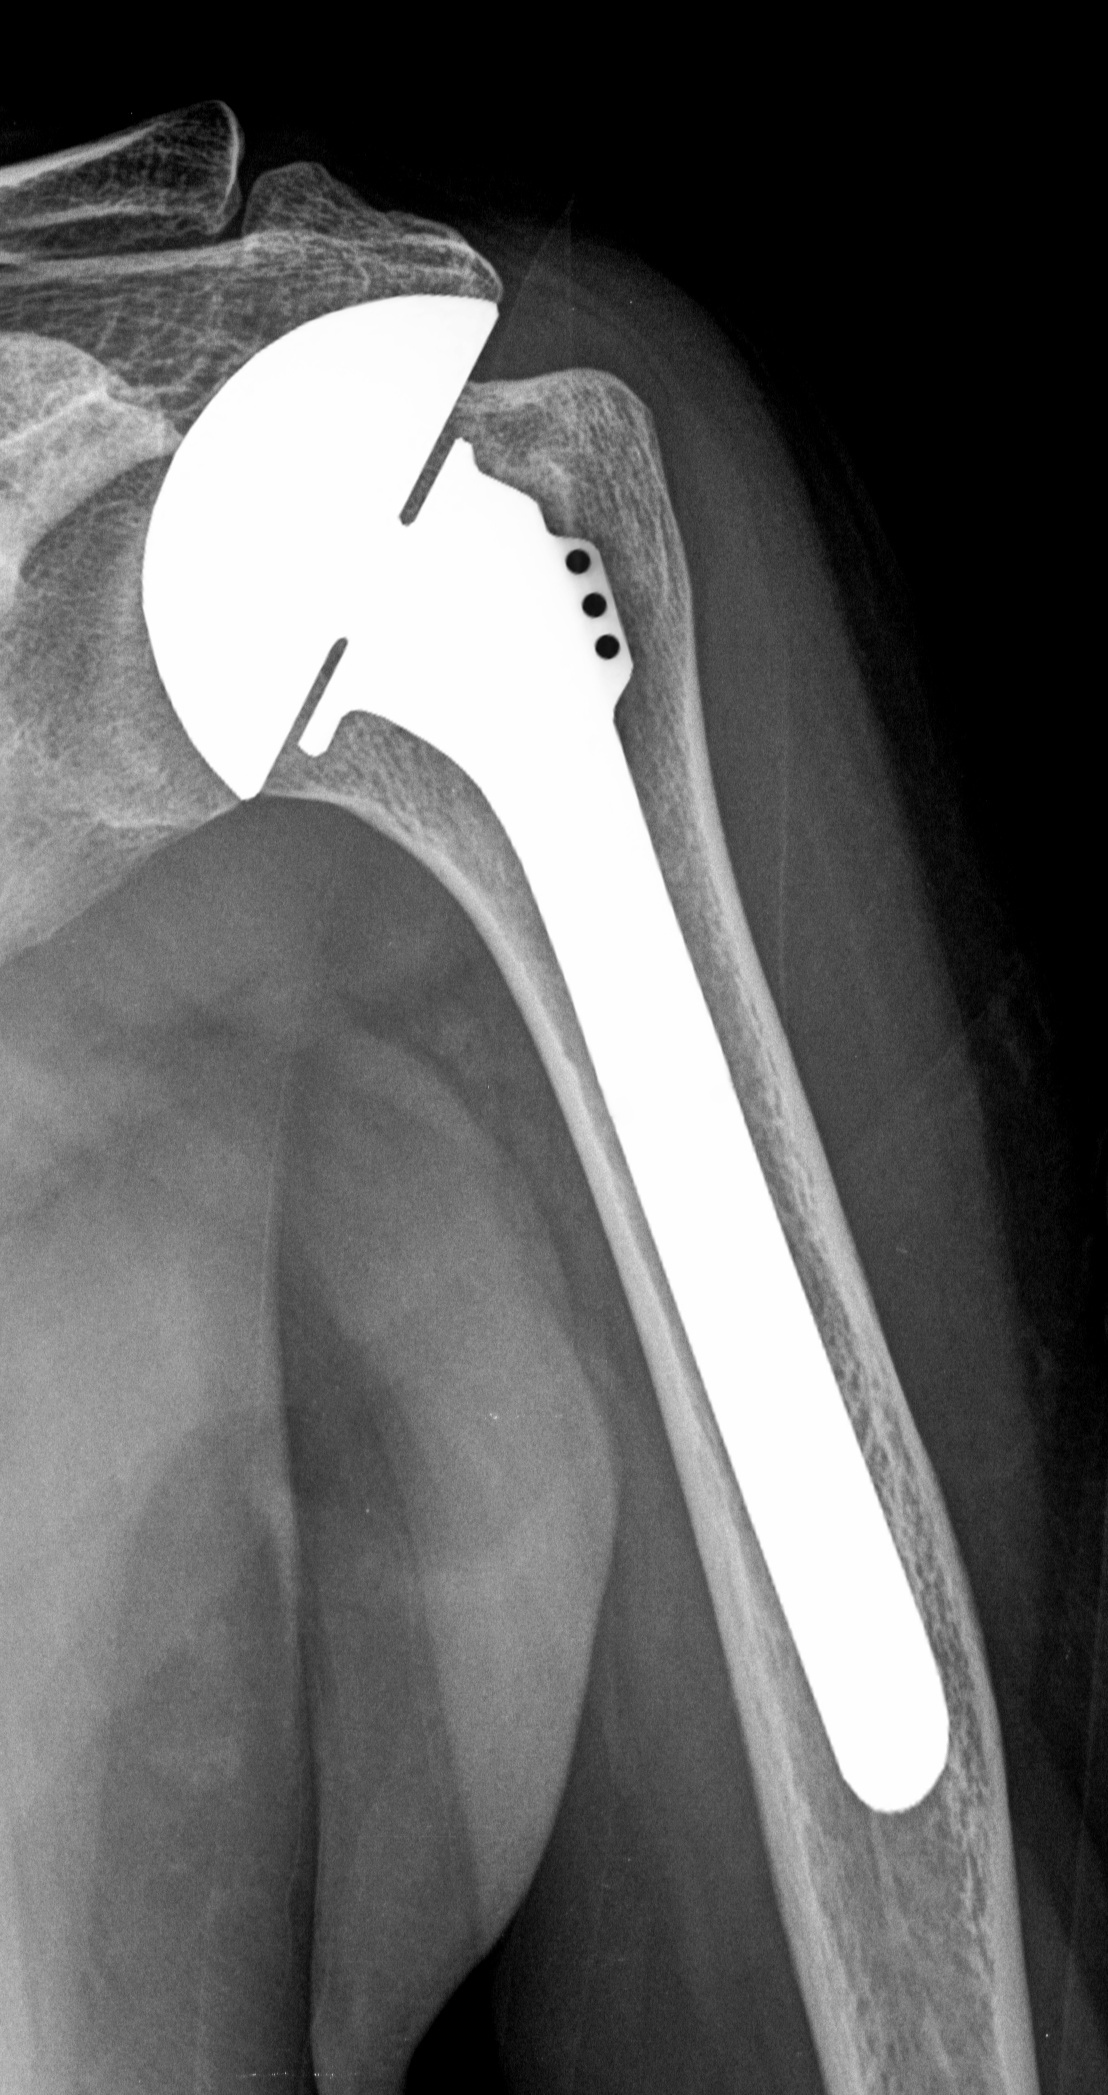Shoulder-Olympia-Wright: (122, 251, 964, 1823)
